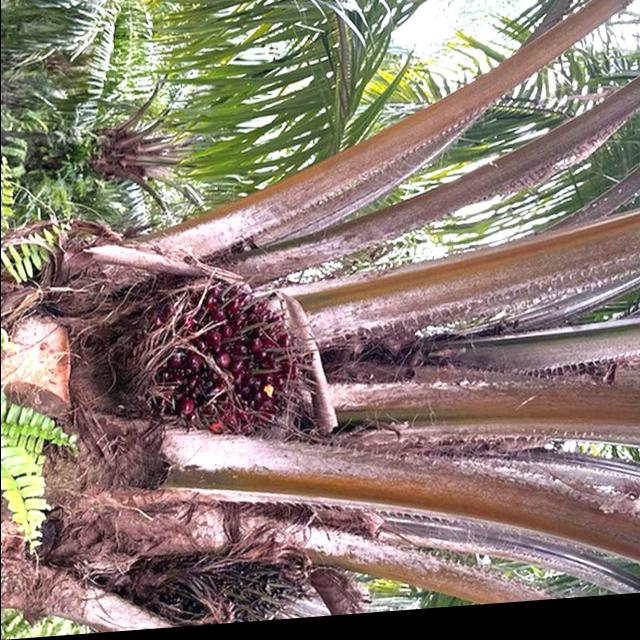ripe: (168, 283, 328, 455)
